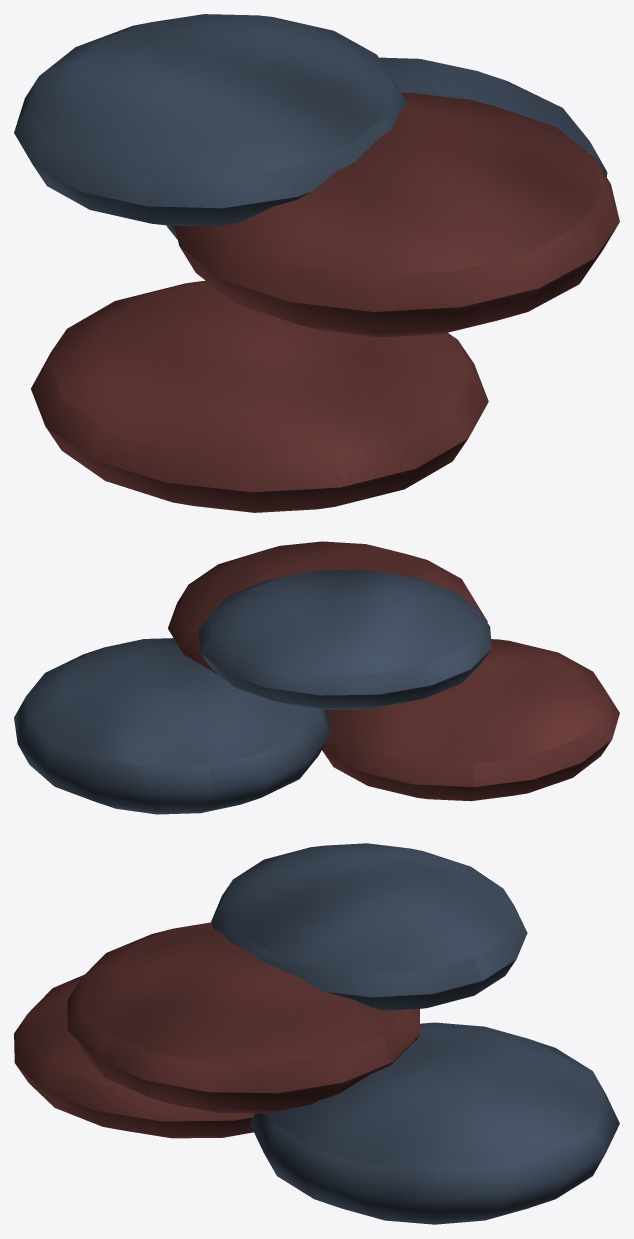
File: Furn_Moment_CushionPile.fbx
The picture shows the model from 3 angles, top to bottom: view 1: azimuth 30°, elevation 25°; view 2: azimuth 150°, elevation 25°; view 3: azimuth 270°, elevation 25°; orthographic projection. The views are drawn at different scales.
Visible parts, largest first — view 1: Furn_Moment_CushionPile; view 2: Furn_Moment_CushionPile; view 3: Furn_Moment_CushionPile.
Boxes of the visible parts, box(x1,y1,x2,y2) form: Furn_Moment_CushionPile: box(14, 14, 619, 512); Furn_Moment_CushionPile: box(14, 541, 619, 814); Furn_Moment_CushionPile: box(14, 843, 619, 1224).
Size of the model in its own units: 1 by 0.45 by 1.
2 materials, 2 textured.
